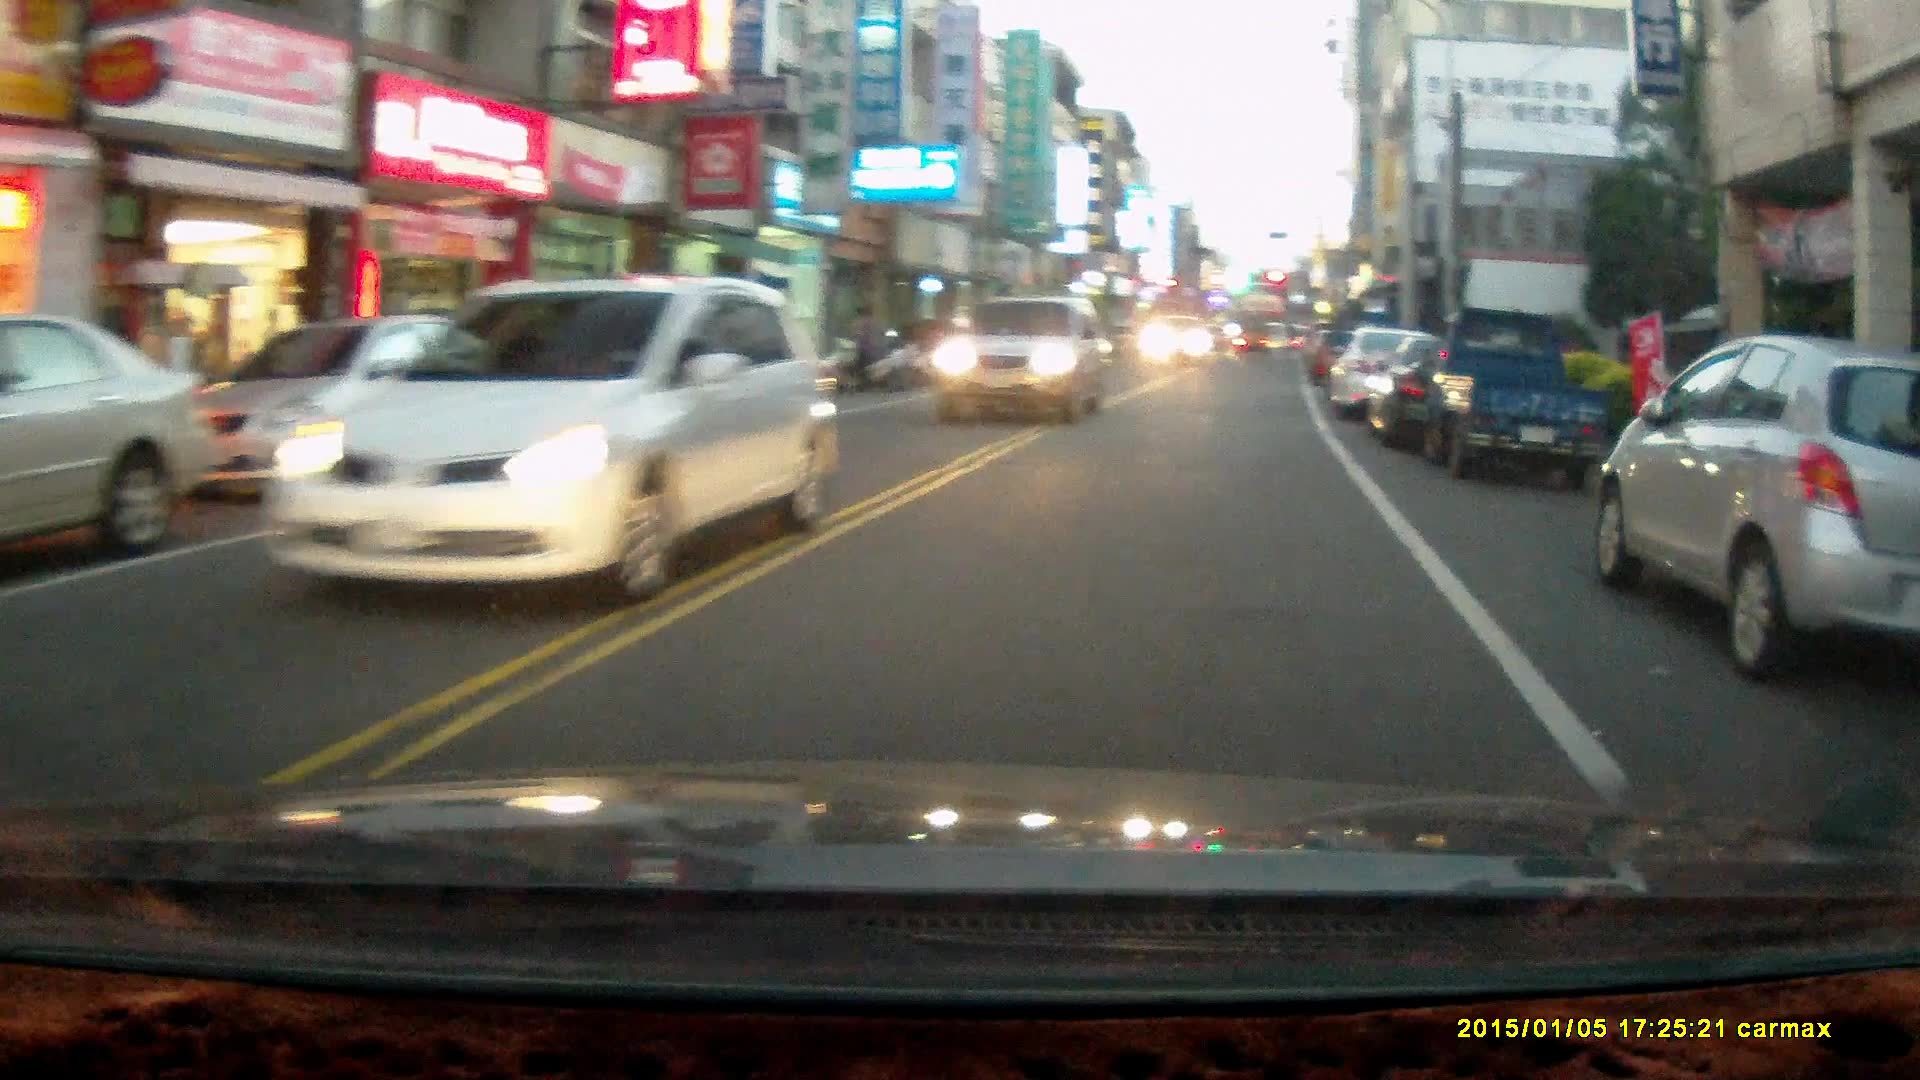pedestrian: (846, 302, 876, 398)
vehicle: (251, 271, 834, 603), (1600, 329, 1920, 686), (1, 308, 224, 579), (1425, 304, 1623, 482), (929, 288, 1119, 420), (1327, 324, 1488, 428), (1145, 310, 1221, 365)
